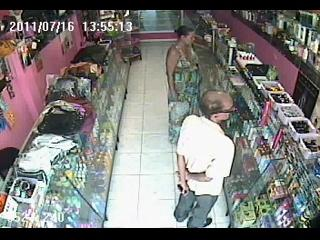Normal: (173, 89, 237, 227), (165, 25, 202, 145)
